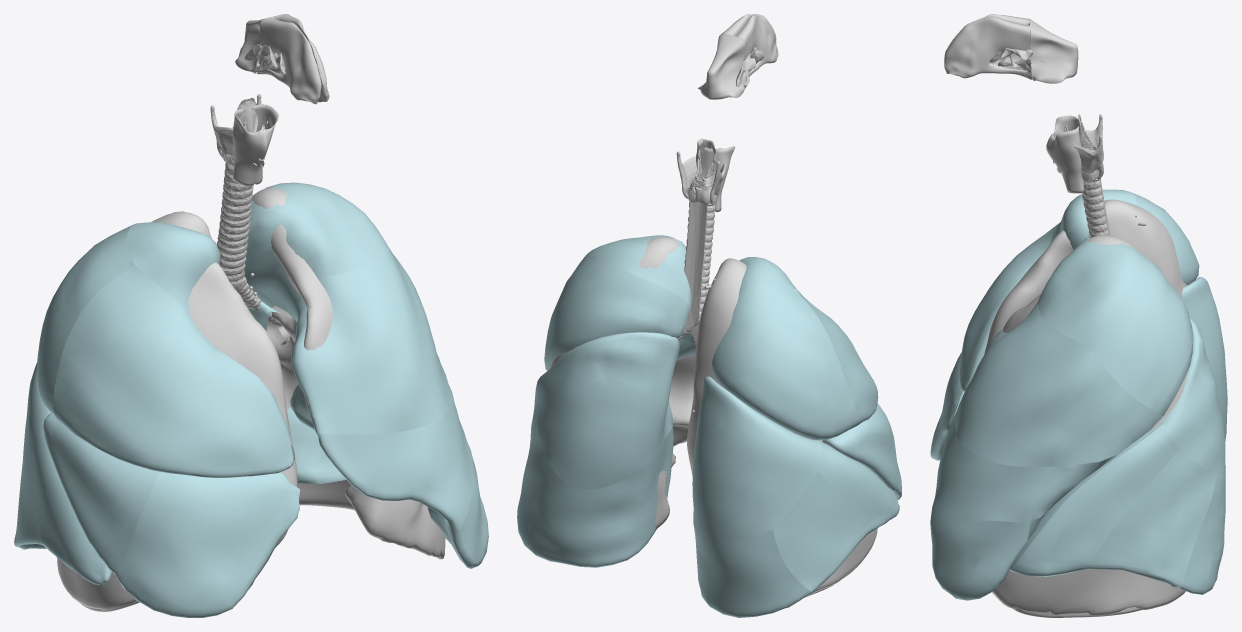
File: respiratory.glb
3 renders of one model, left to right at view 1: azimuth 30°, elevation 25°; view 2: azimuth 150°, elevation 25°; view 3: azimuth 270°, elevation 25°, orthographic. The views are drawn at different scales.
Parts seen in each view (by area): view 1: hra-male-right-anterior-bronchopulmonary-segment, hra-male-left-anterior-bronchopulmonary-segment, hra-male-right-medial-bronchopulmonary-segment, pleura, hra-male-left-lingula-superior-bronchopulmonary-segment, hra-male-left-apical-bronchopulmonary-segment, hra-male-right-lateral-bronchopulmonary-segment, hra-male-right-posterior-bronchopulmonary-segment, hra-male-right-anterior-basal-bronchopulmonary-segment, hra-male-right-apical-bronchopulmonary-segment, mucosa-of-nasal-cavity, trachea (+6 smaller); view 2: hra-male-left-superior-bronchopulmonary-segment, hra-male-right-posterior-bronchopulmonary-segment, hra-male-right-superior-bronchopulmonary-segment, hra-male-left-posetrior-basal-bronchopulmonary-segment, hra-male-left-posterior-bronchopulmonary-segment, pleura, hra-male-right-posterior-basal-bronchopulmonary-segment, hra-male-right-lateral-basal-bronchopulmonary-segment, hra-male-right-anterior-basal-bronchopulmonary-segment, hra-male-right-lateral-bronchopulmonary-segment, hra-male-left-apical-bronchopulmonary-segment, trachea (+7 smaller); view 3: hra-male-left-anterior-bronchopulmonary-segment, pleura, hra-male-left-lateral-basal-bronchopulmonary-segment, hra-male-left-posterior-bronchopulmonary-segment, hra-male-left-anterior-basal-bronchopulmonary-segment, hra-male-left-lingula-superior-bronchopulmonary-segment, hra-male-left-apical-bronchopulmonary-segment, hra-male-left-lingula-inferior-bronchopulmonary-segment, hra-male-left-superior-bronchopulmonary-segment, mucosa-of-nasal-cavity, hra-male-right-anterior-bronchopulmonary-segment, hra-male-left-posetrior-basal-bronchopulmonary-segment (+11 smaller).
Boxes of the visible parts, <box> form: hra-male-right-anterior-bronchopulmonary-segment: <box>53,264,294,477</box>; hra-male-left-anterior-bronchopulmonary-segment: <box>286,248,453,434</box>; hra-male-right-medial-bronchopulmonary-segment: <box>117,471,299,617</box>; pleura: <box>57,187,445,610</box>; hra-male-left-lingula-superior-bronchopulmonary-segment: <box>315,393,472,531</box>; hra-male-left-apical-bronchopulmonary-segment: <box>244,182,389,311</box>; hra-male-right-lateral-bronchopulmonary-segment: <box>43,413,158,576</box>; hra-male-right-posterior-bronchopulmonary-segment: <box>37,224,134,419</box>; hra-male-right-anterior-basal-bronchopulmonary-segment: <box>29,406,111,585</box>; hra-male-right-apical-bronchopulmonary-segment: <box>126,222,220,311</box>; mucosa-of-nasal-cavity: <box>256,14,329,104</box>; trachea: <box>217,162,253,291</box>; hra-male-left-superior-bronchopulmonary-segment: <box>537,332,679,489</box>; hra-male-right-posterior-bronchopulmonary-segment: <box>712,286,857,440</box>; hra-male-right-superior-bronchopulmonary-segment: <box>692,376,822,539</box>; hra-male-left-posetrior-basal-bronchopulmonary-segment: <box>517,426,673,567</box>; hra-male-left-posterior-bronchopulmonary-segment: <box>546,256,690,367</box>; pleura: <box>550,236,877,596</box>; hra-male-right-posterior-basal-bronchopulmonary-segment: <box>693,509,811,617</box>; hra-male-right-lateral-basal-bronchopulmonary-segment: <box>773,471,867,592</box>; hra-male-right-anterior-basal-bronchopulmonary-segment: <box>818,440,899,533</box>; hra-male-right-lateral-bronchopulmonary-segment: <box>822,404,900,492</box>; hra-male-left-apical-bronchopulmonary-segment: <box>582,235,691,306</box>; trachea: <box>684,201,715,332</box>; hra-male-left-anterior-bronchopulmonary-segment: <box>955,302,1162,466</box>; pleura: <box>984,199,1187,615</box>; hra-male-left-lateral-basal-bronchopulmonary-segment: <box>1089,449,1216,587</box>; hra-male-left-posterior-bronchopulmonary-segment: <box>1094,262,1193,415</box>; hra-male-left-anterior-basal-bronchopulmonary-segment: <box>1009,424,1178,576</box>; hra-male-left-lingula-superior-bronchopulmonary-segment: <box>930,411,1153,536</box>; hra-male-left-apical-bronchopulmonary-segment: <box>1038,238,1152,352</box>; hra-male-left-lingula-inferior-bronchopulmonary-segment: <box>931,511,1047,600</box>; hra-male-left-superior-bronchopulmonary-segment: <box>1162,317,1225,480</box>; mucosa-of-nasal-cavity: <box>944,14,1031,79</box>; hra-male-right-anterior-bronchopulmonary-segment: <box>959,222,1060,391</box>; hra-male-left-posetrior-basal-bronchopulmonary-segment: <box>1179,476,1225,594</box>.
Size of the model in its own units: 0.2989 by 0.4306 by 0.2186.
